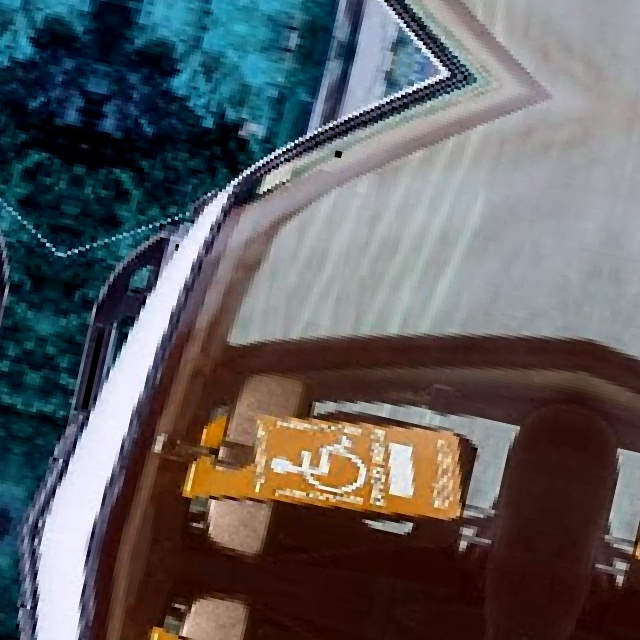ISA: (265, 418, 374, 501)
